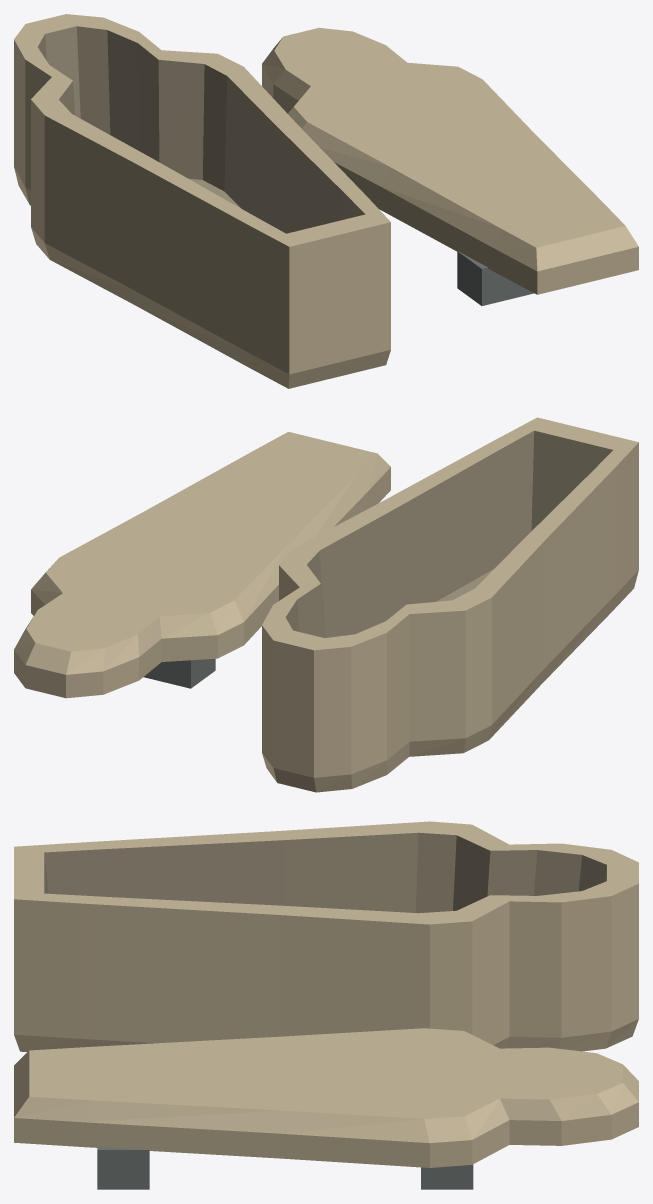
The picture shows the model from 3 angles, top to bottom: view 1: azimuth 30°, elevation 25°; view 2: azimuth 150°, elevation 25°; view 3: azimuth 270°, elevation 25°; orthographic projection. The views are drawn at different scales.
Visible parts, largest first — view 1: WholeEmptyAnthropoidStoneCoffin, WholeMatchingAnthropoidStoneLid, WholeLidDisplayRest0; view 2: WholeEmptyAnthropoidStoneCoffin, WholeMatchingAnthropoidStoneLid, WholeLidDisplayRest1; view 3: WholeEmptyAnthropoidStoneCoffin, WholeMatchingAnthropoidStoneLid, WholeLidDisplayRest0, WholeLidDisplayRest1.
Boxes of the visible parts, <box> form: WholeEmptyAnthropoidStoneCoffin: <box>14,14,390,388</box>; WholeMatchingAnthropoidStoneLid: <box>262,27,638,294</box>; WholeLidDisplayRest0: <box>457,251,533,305</box>; WholeEmptyAnthropoidStoneCoffin: <box>262,417,638,792</box>; WholeMatchingAnthropoidStoneLid: <box>14,432,390,698</box>; WholeLidDisplayRest1: <box>143,658,215,688</box>; WholeEmptyAnthropoidStoneCoffin: <box>14,821,638,1051</box>; WholeMatchingAnthropoidStoneLid: <box>14,1028,638,1167</box>; WholeLidDisplayRest0: <box>97,1146,149,1189</box>; WholeLidDisplayRest1: <box>421,1164,473,1189</box>.
Bounding box in the file's own units: 2.2 × 0.68 × 2.51.
